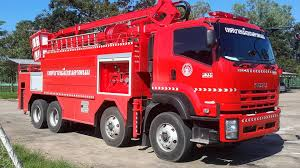truck: (17, 17, 282, 162)
